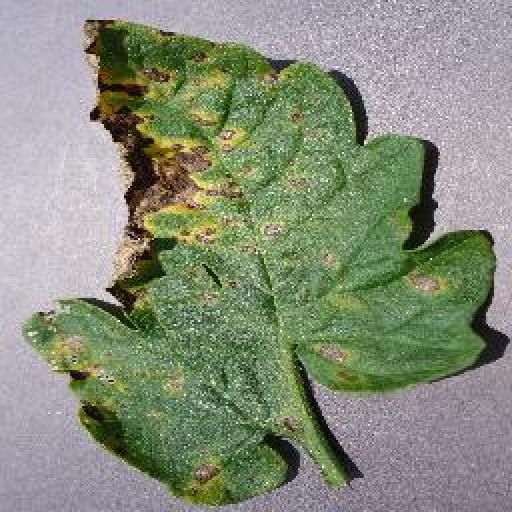disease_tomato: (22, 20, 497, 504)
